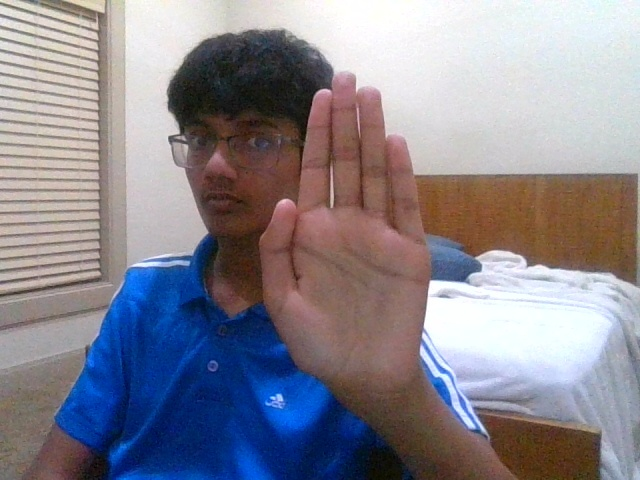hello: (258, 73, 431, 386)
